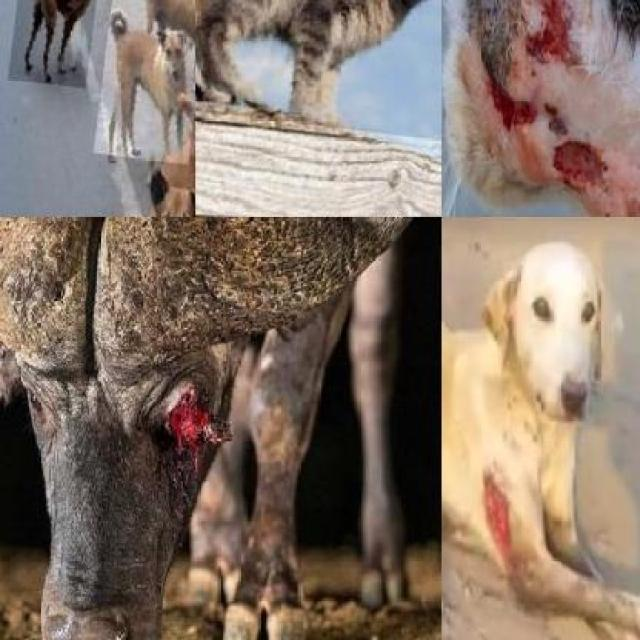buffalo: (0, 217, 431, 640)
cat: (441, 0, 640, 217), (196, 0, 442, 146)
dog: (441, 234, 640, 640), (92, 0, 196, 163), (6, 0, 103, 89), (120, 120, 195, 217), (149, 0, 195, 95)
injured: (138, 336, 233, 507), (459, 462, 528, 576), (478, 35, 542, 150), (508, 0, 597, 71), (557, 123, 609, 192)
